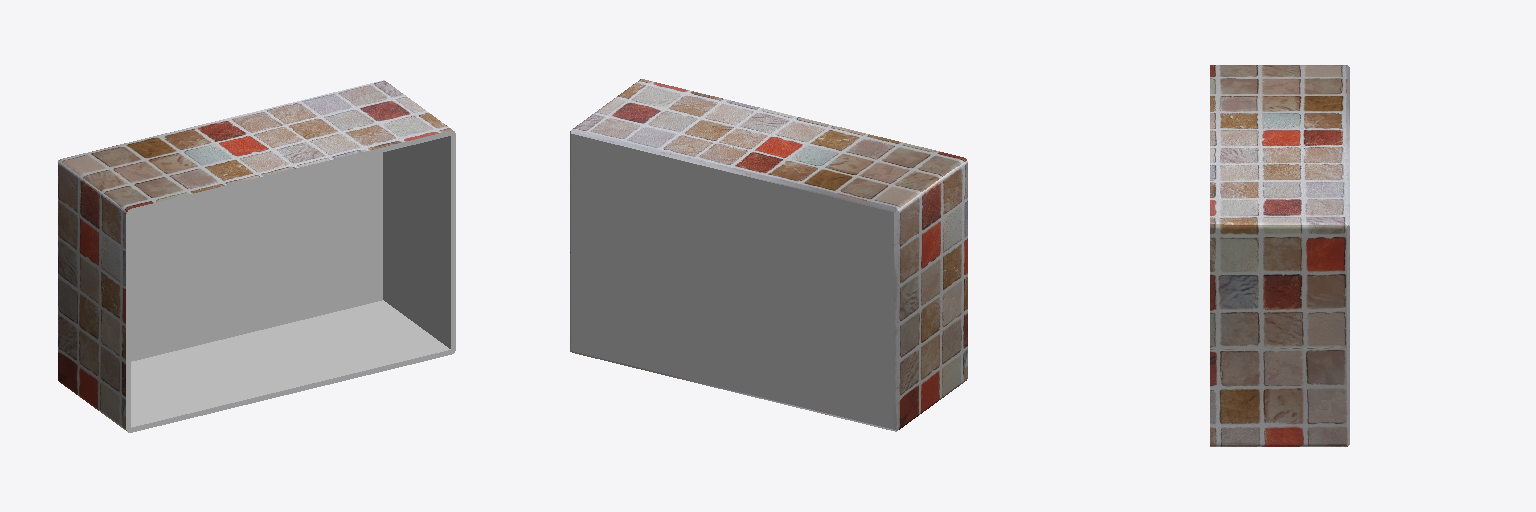
The picture shows the model from 3 angles: view 1: azimuth 30°, elevation 25°; view 2: azimuth 150°, elevation 25°; view 3: azimuth 270°, elevation 25°; orthographic projection.
Bounding box in the file's own units: 0.2 × 0.13 × 0.074.
1 materials, 1 textured.